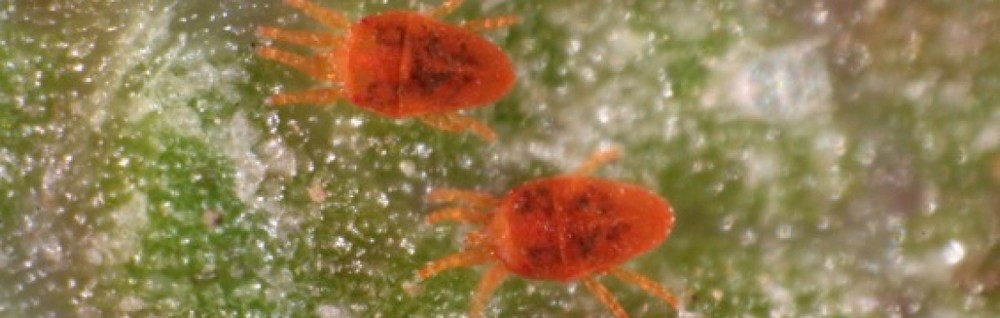Aracnido Rojo: (415, 158, 705, 316), (252, 2, 542, 158)
